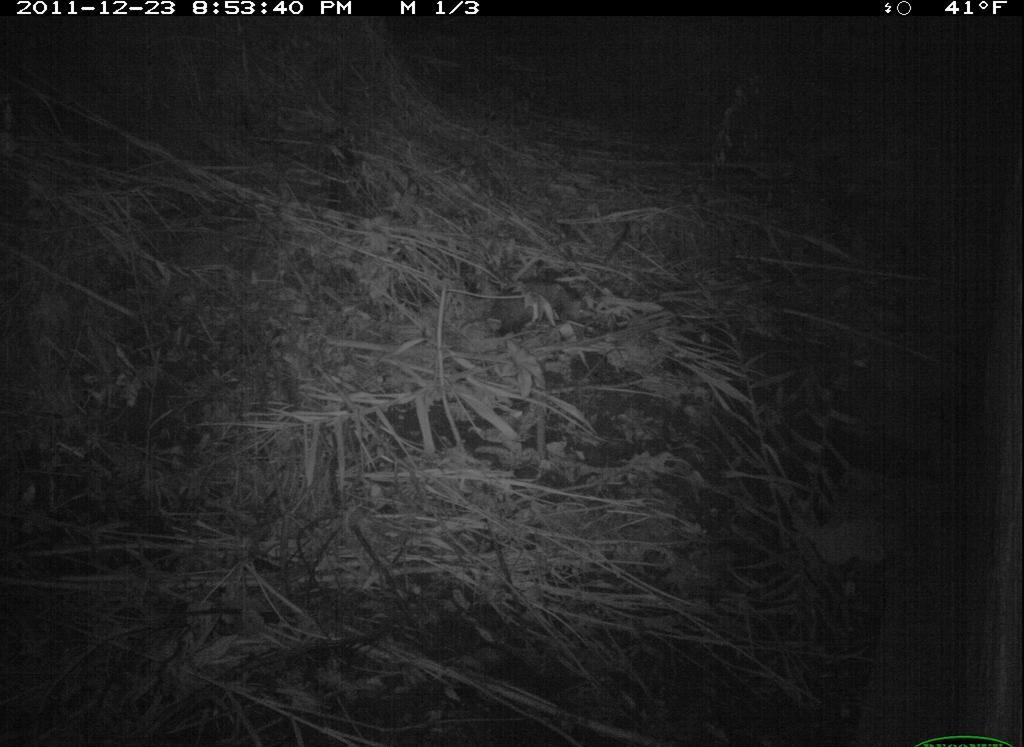opossum: (485, 264, 601, 344)
